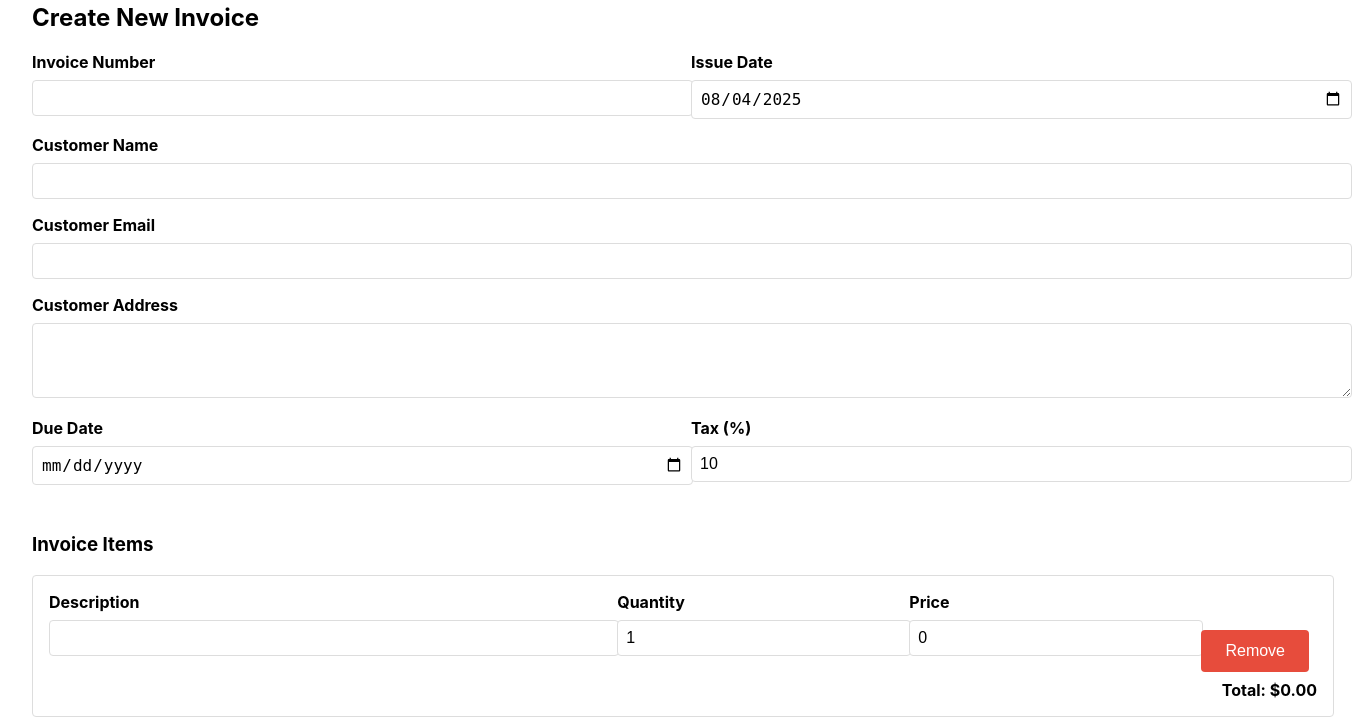
Test: InvoiceForm Component › validates due date is after issue date
Type "2024-01-15" into the date field labelled "Issue Date" at point(1022, 99), box [691,80,1352,119]
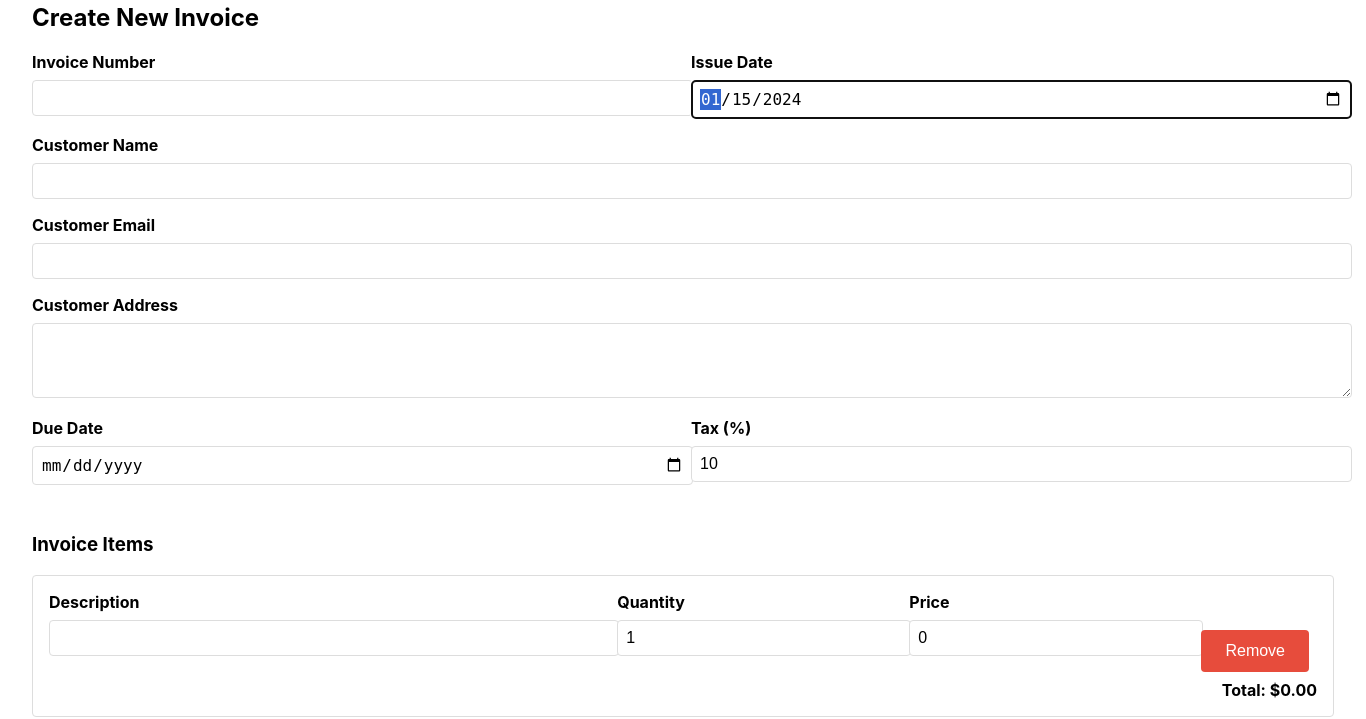
Type "2024-01-10" into the date field labelled "Due Date" at point(362, 465), box [32,446,693,485]
(page scrolled)
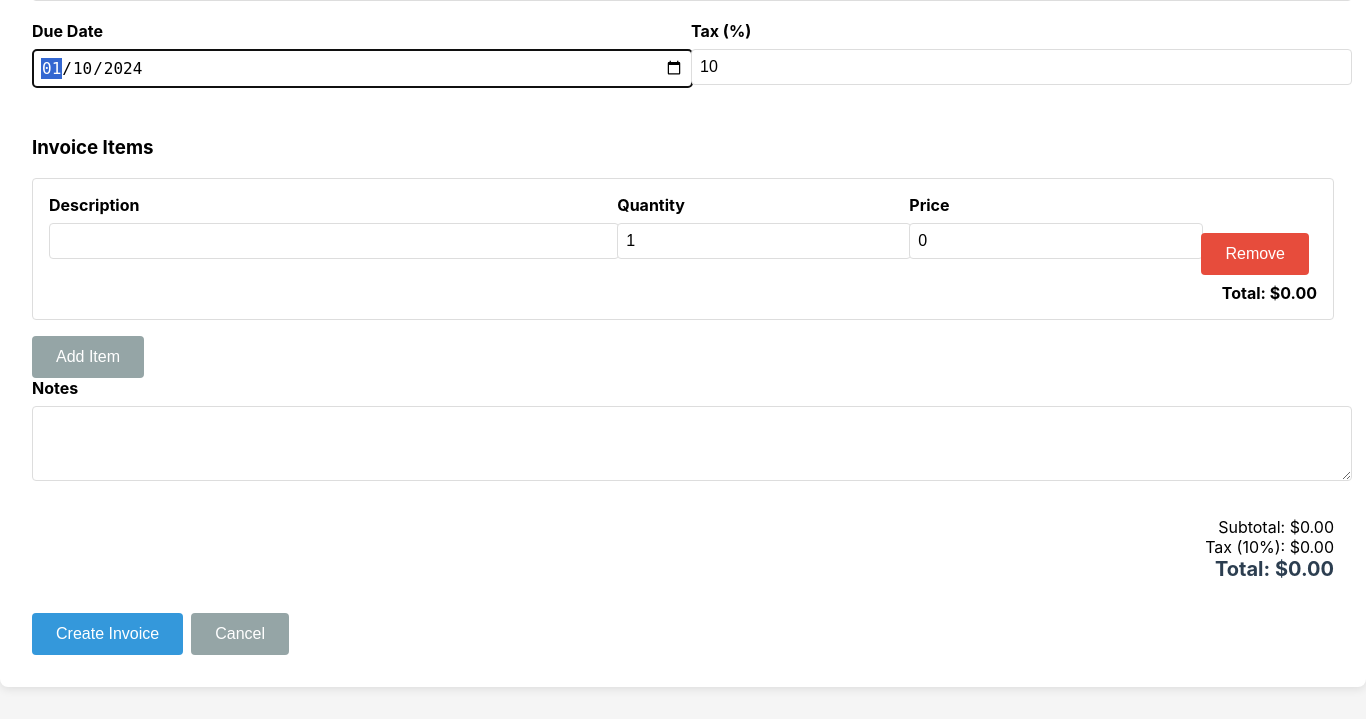
Click the button "Create Invoice" at point(108, 634), box [32,612,183,654]
(page scrolled)
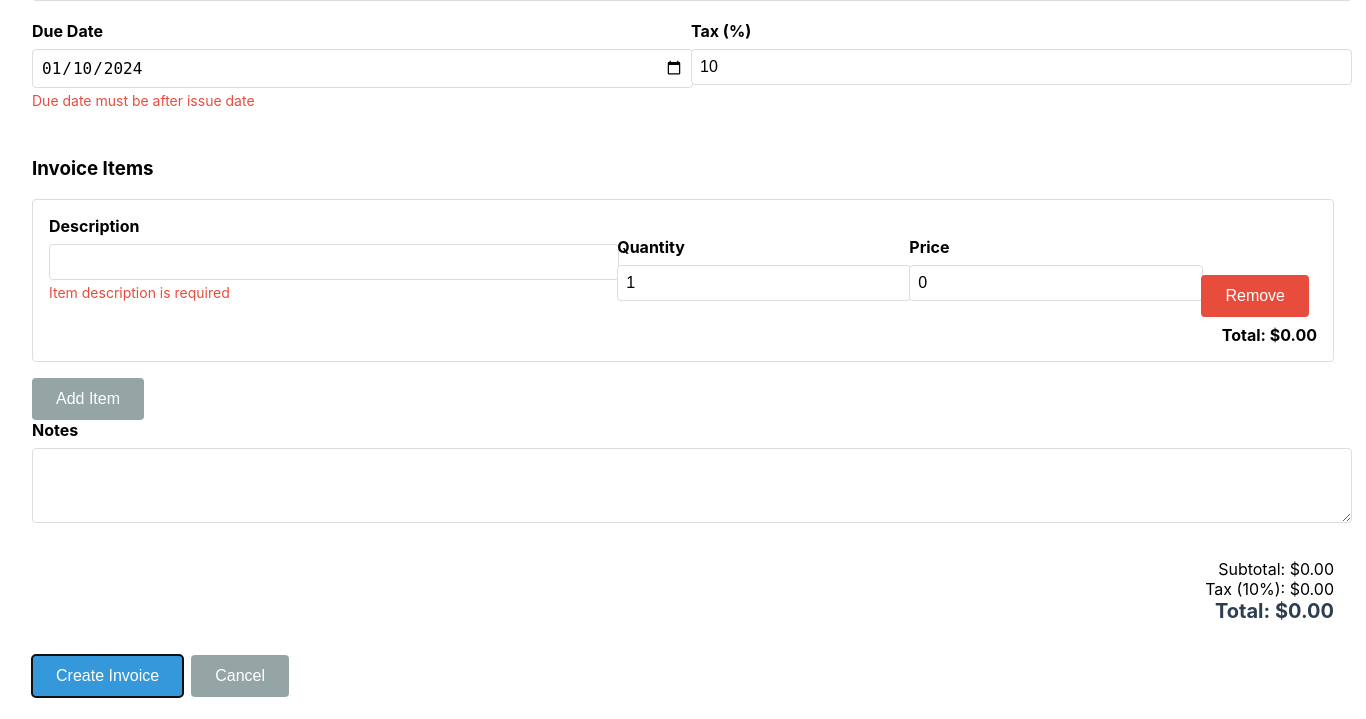
Now the text "Due date must be after issue date" is shown, box [32,92,254,109]
